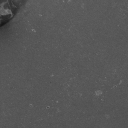corrosion: (95, 89, 103, 97), (30, 27, 36, 33)
